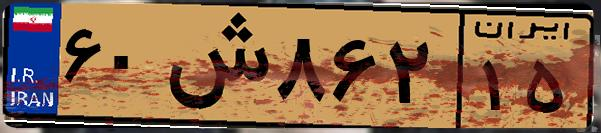0: (110, 28, 158, 98)
1: (475, 38, 525, 113)
2: (385, 28, 445, 110)
5: (525, 38, 570, 115)
6: (330, 28, 385, 110), (57, 26, 110, 100)
8: (270, 28, 330, 110)
ش: (158, 12, 270, 120)
